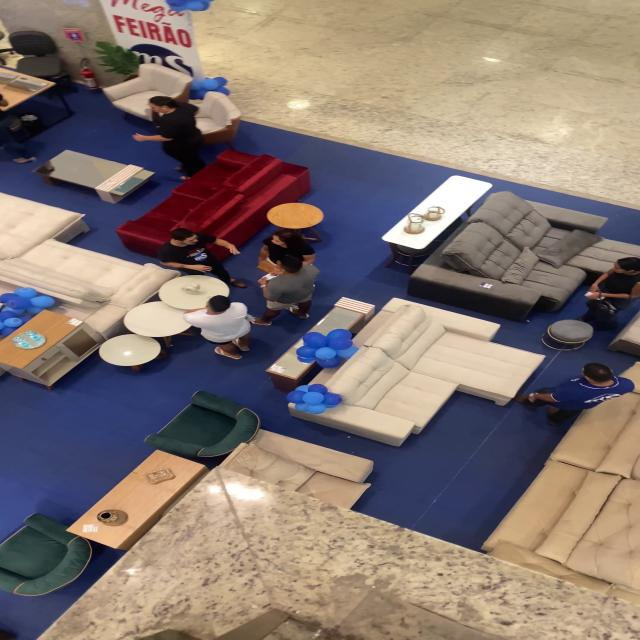person: (130, 92, 210, 185), (144, 222, 242, 290), (539, 360, 628, 424), (576, 252, 640, 326), (182, 293, 249, 362), (262, 252, 313, 320), (255, 221, 320, 264)
